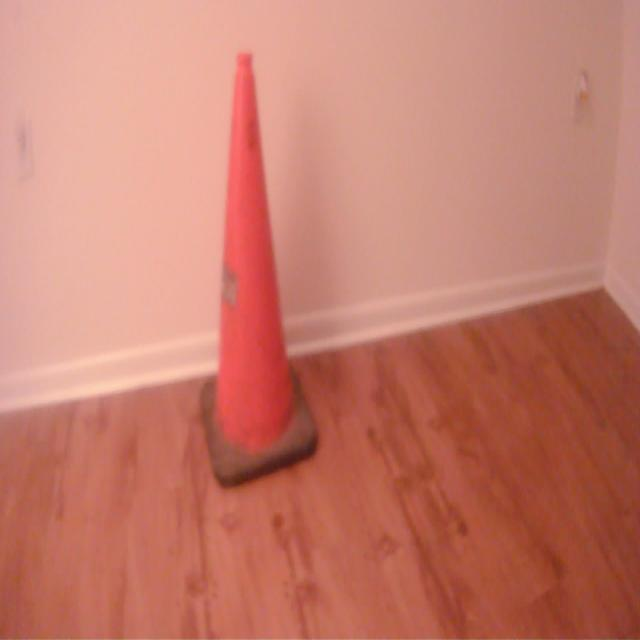traffic cone: (196, 44, 322, 496)
